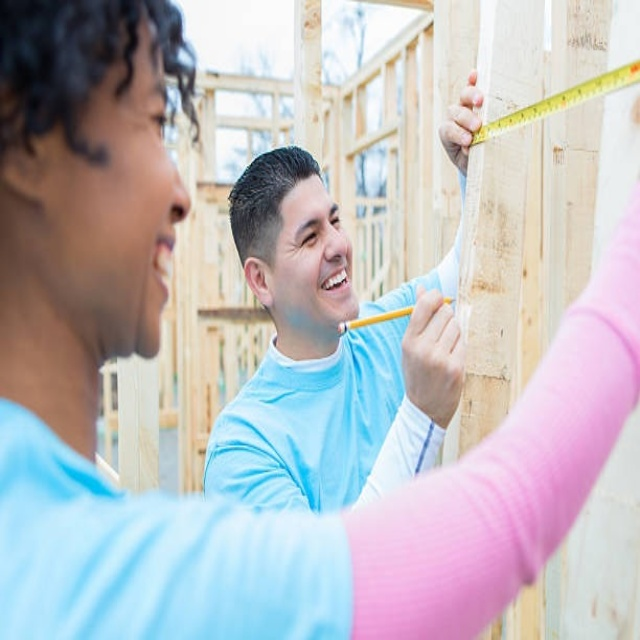Sin_gafas: (96, 83, 176, 141), (282, 196, 343, 262)
Sin_guantes: (400, 284, 467, 426), (439, 70, 484, 179)
Sin_mascara: (107, 218, 183, 359), (312, 262, 355, 309)
